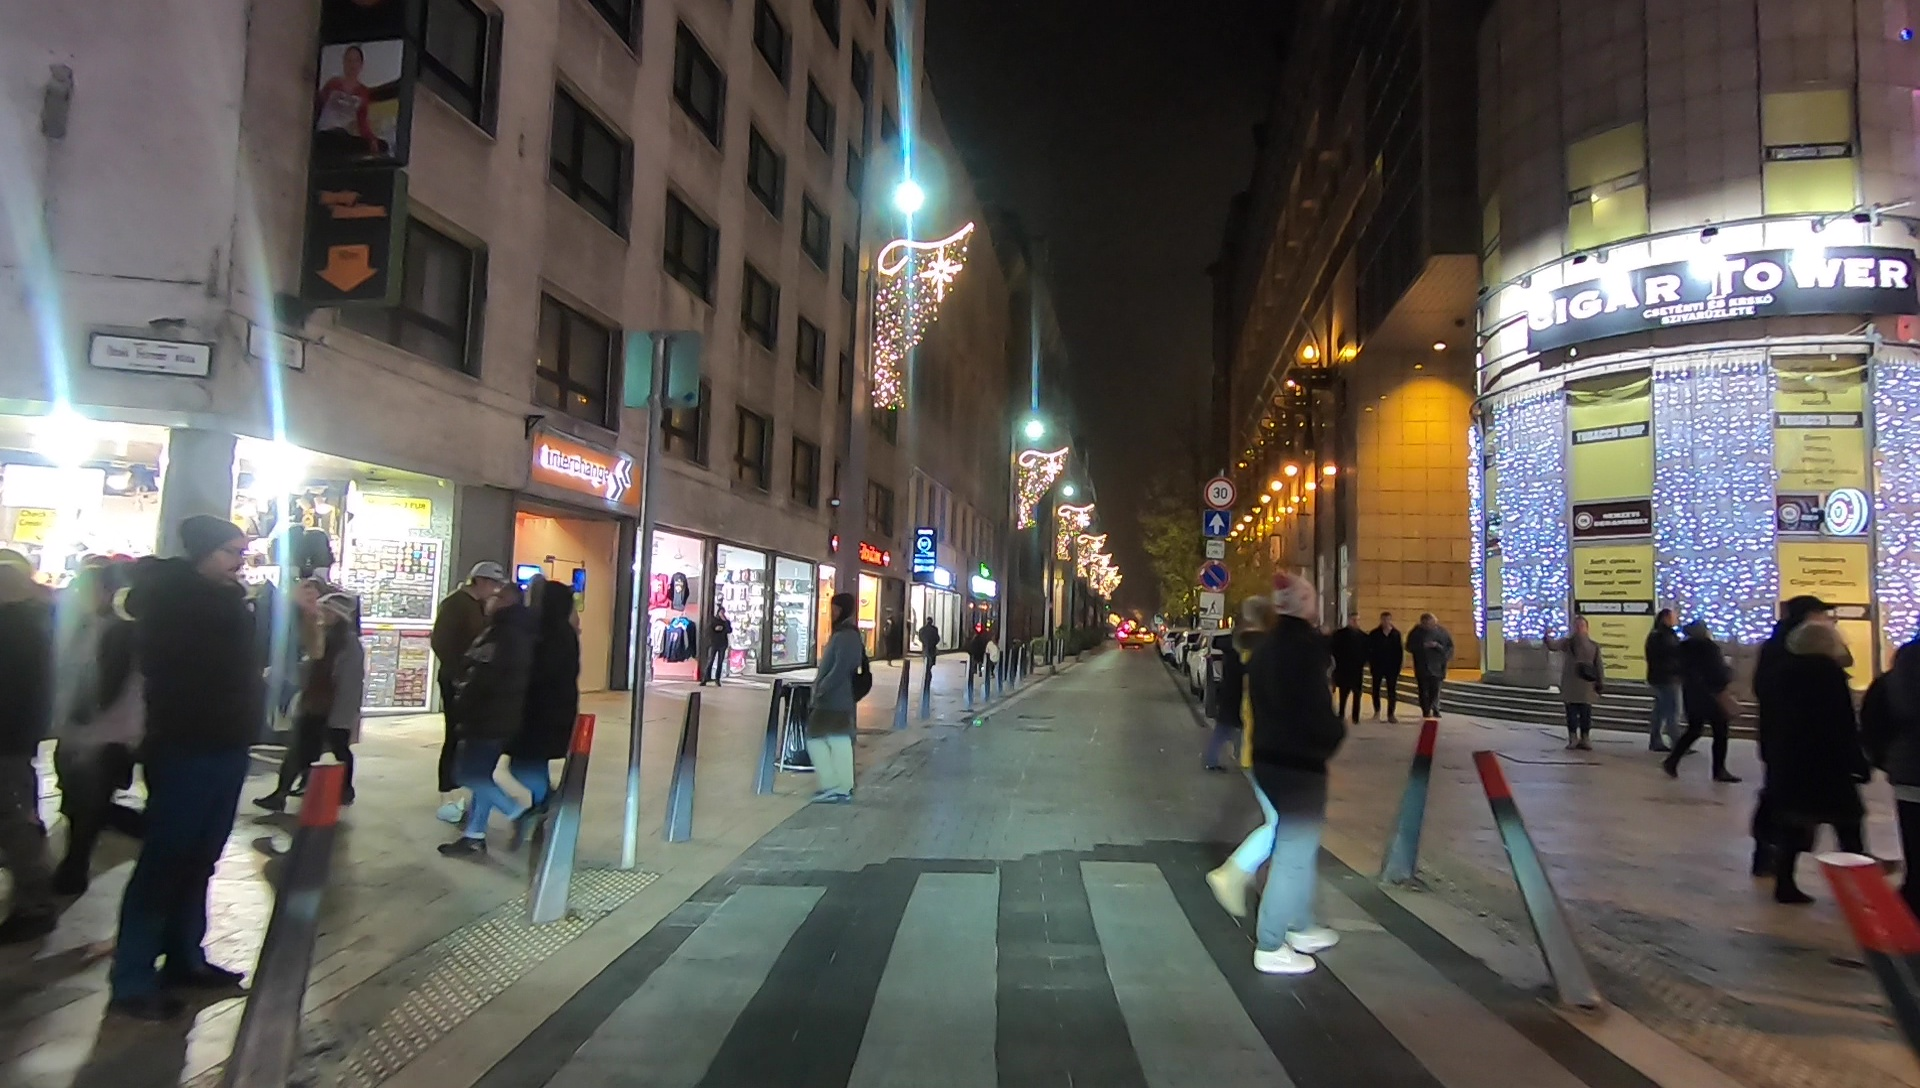person: (115, 536, 262, 1002), (1225, 571, 1343, 976), (439, 574, 536, 871), (1784, 630, 1875, 902), (1756, 595, 1841, 871), (278, 573, 365, 808), (430, 547, 508, 810), (514, 571, 584, 852), (797, 586, 869, 802), (1671, 621, 1732, 786), (1545, 615, 1602, 749), (1643, 608, 1684, 752), (1406, 611, 1451, 719), (1334, 617, 1369, 732), (1369, 615, 1401, 724)
